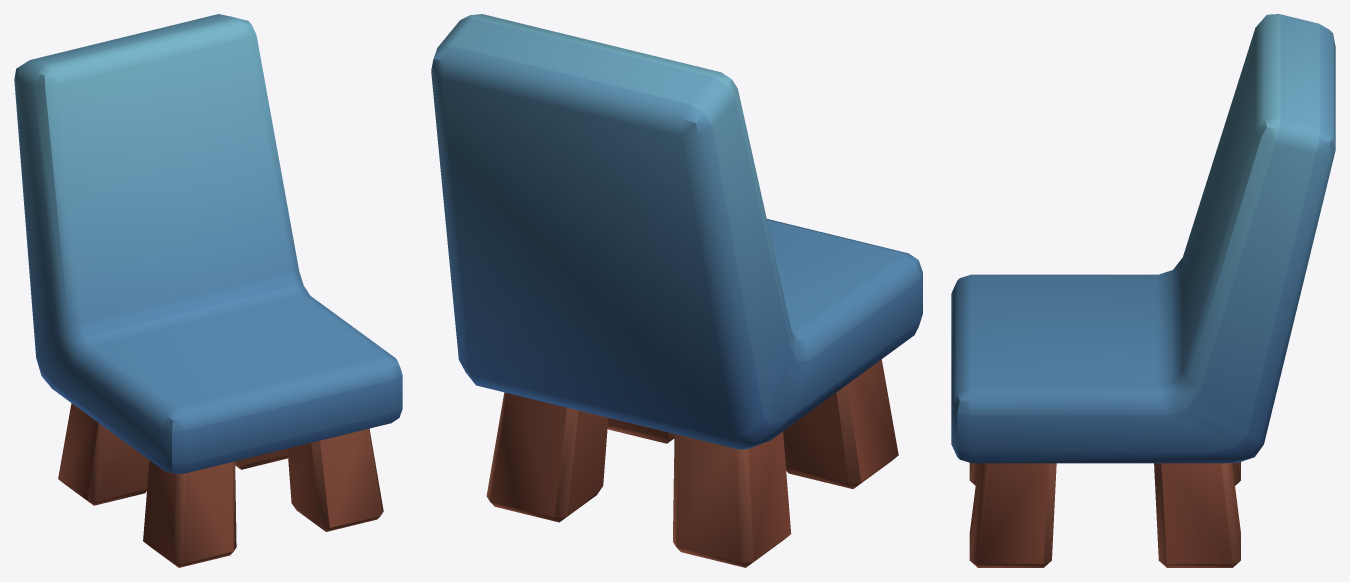
Rendered from chair-c.glb.
3 views of the same model, side by side, from view 1: azimuth 30°, elevation 25°; view 2: azimuth 150°, elevation 25°; view 3: azimuth 270°, elevation 25° (orthographic). The views are drawn at different scales.
Parts seen in each view (by area): view 1: chair_C; view 2: chair_C; view 3: chair_C.
Part boxes in pixels (x1,y1,x2,y2): chair_C: [14, 14, 402, 567]; chair_C: [431, 14, 922, 567]; chair_C: [951, 14, 1335, 567].
Bounding box in the file's own units: 0.75 × 1.2 × 0.9356.
